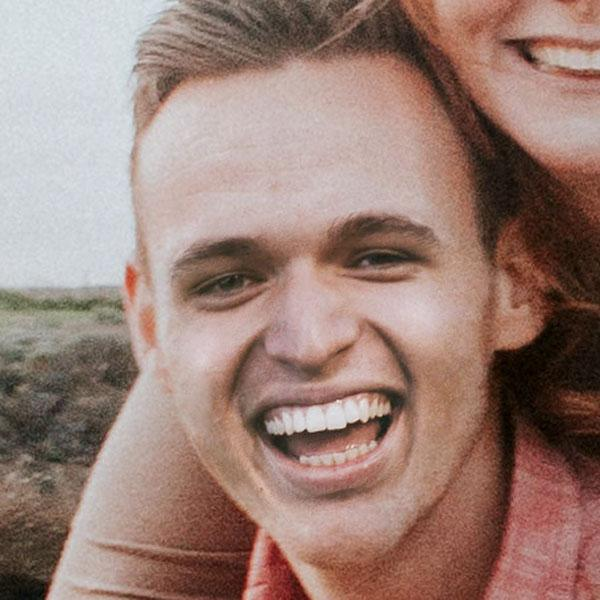Eyes: (178, 256, 276, 318), (339, 231, 429, 286)
